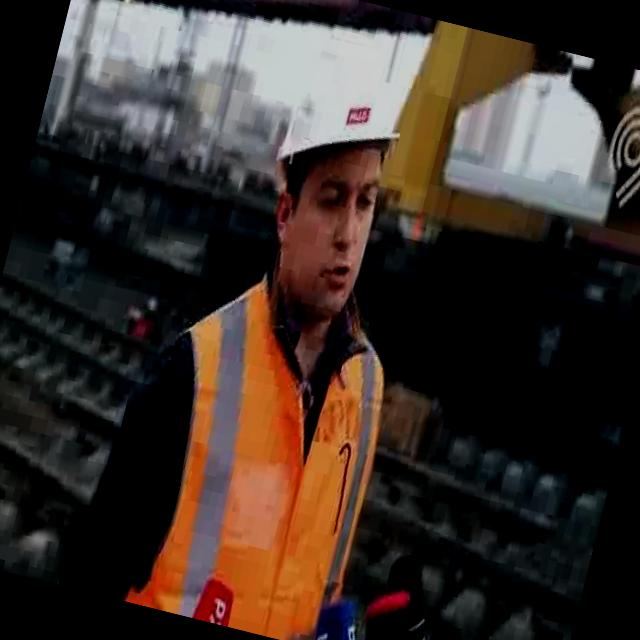vest: (107, 245, 418, 640)
